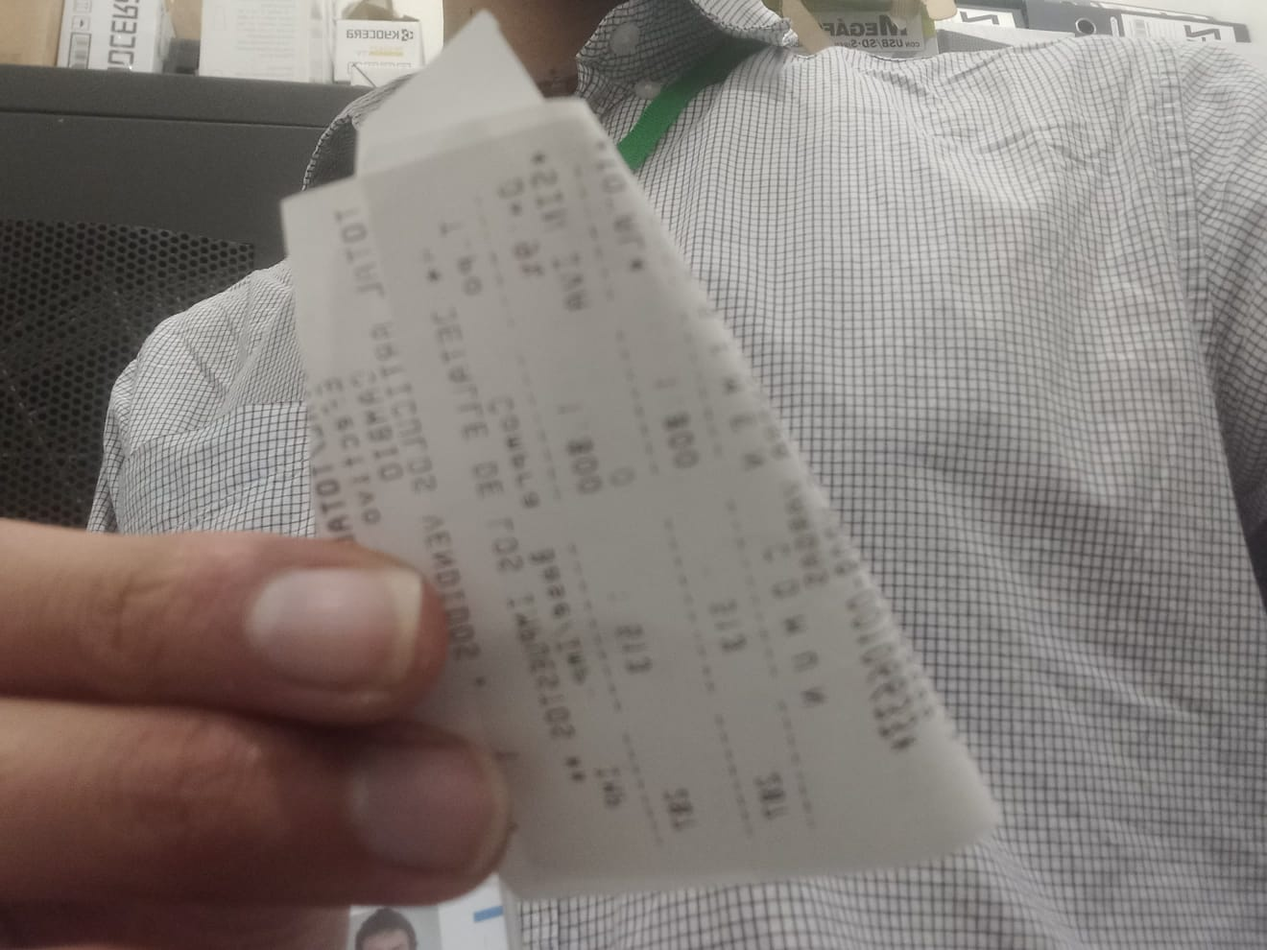Papel: (282, 11, 1001, 898)
